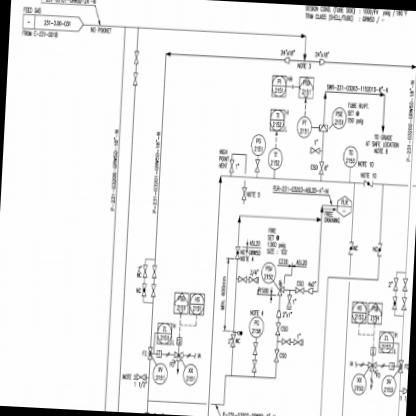LMI: (150, 361, 167, 388), (350, 372, 368, 397), (250, 130, 267, 156), (330, 105, 348, 129), (294, 116, 312, 140), (182, 362, 198, 388), (266, 147, 284, 170), (260, 259, 276, 284), (342, 144, 358, 168), (380, 374, 396, 398), (248, 316, 265, 338)
TAG: (349, 294, 368, 326), (188, 290, 207, 315), (269, 72, 287, 98), (268, 106, 285, 133), (378, 328, 394, 355), (156, 320, 172, 347)
